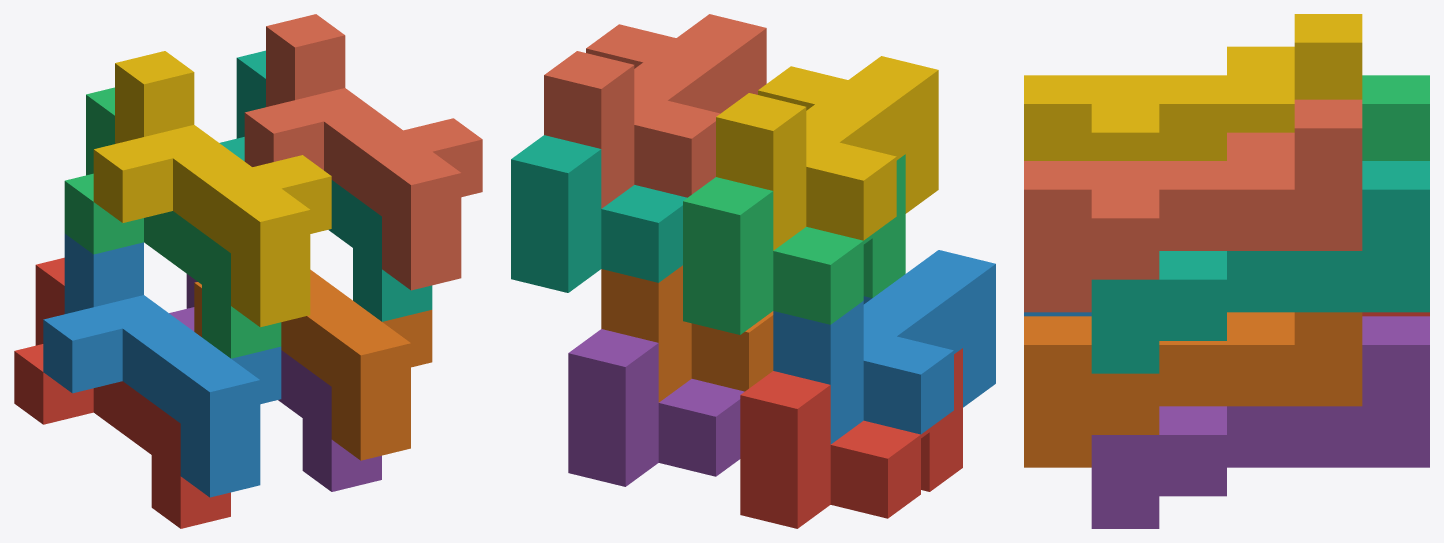
File: tiling.obj
The picture shows the model from 3 angles, left to right: view 1: azimuth 30°, elevation 25°; view 2: azimuth 150°, elevation 25°; view 3: azimuth 270°, elevation 25°; orthographic projection. The views are drawn at different scales.
Visible parts, largest first — view 1: copy_1_domain_4, copy_1_domain_8, copy_1_domain_2, copy_1_domain_6, copy_1_domain_1, copy_1_domain_3, copy_1_domain_7, copy_1_domain_5; view 2: copy_1_domain_4, copy_1_domain_8, copy_1_domain_2, copy_1_domain_3, copy_1_domain_1, copy_1_domain_5, copy_1_domain_7, copy_1_domain_6; view 3: copy_1_domain_8, copy_1_domain_6, copy_1_domain_5, copy_1_domain_7, copy_1_domain_4, copy_1_domain_3.
Part boxes in pixels (bbox=[...]): copy_1_domain_4: bbox=[93, 51, 331, 327]; copy_1_domain_8: bbox=[244, 14, 482, 290]; copy_1_domain_2: bbox=[43, 233, 281, 497]; copy_1_domain_6: bbox=[194, 269, 432, 460]; copy_1_domain_1: bbox=[14, 257, 230, 528]; copy_1_domain_3: bbox=[64, 87, 281, 358]; copy_1_domain_7: bbox=[219, 50, 432, 321]; copy_1_domain_5: bbox=[169, 274, 381, 491]; copy_1_domain_4: bbox=[716, 56, 938, 250]; copy_1_domain_8: bbox=[544, 14, 766, 208]; copy_1_domain_2: bbox=[773, 250, 995, 444]; copy_1_domain_3: bbox=[683, 154, 905, 334]; copy_1_domain_1: bbox=[740, 348, 962, 528]; copy_1_domain_5: bbox=[568, 329, 744, 486]; copy_1_domain_7: bbox=[511, 135, 687, 292]; copy_1_domain_6: bbox=[601, 265, 773, 402]; copy_1_domain_8: bbox=[1024, 99, 1362, 312]; copy_1_domain_6: bbox=[1024, 312, 1362, 467]; copy_1_domain_5: bbox=[1091, 316, 1429, 528]; copy_1_domain_7: bbox=[1091, 161, 1429, 373]; copy_1_domain_4: bbox=[1024, 14, 1362, 160]; copy_1_domain_3: bbox=[1362, 75, 1429, 160].
Size of the model in its own units: 7 by 7 by 6.
